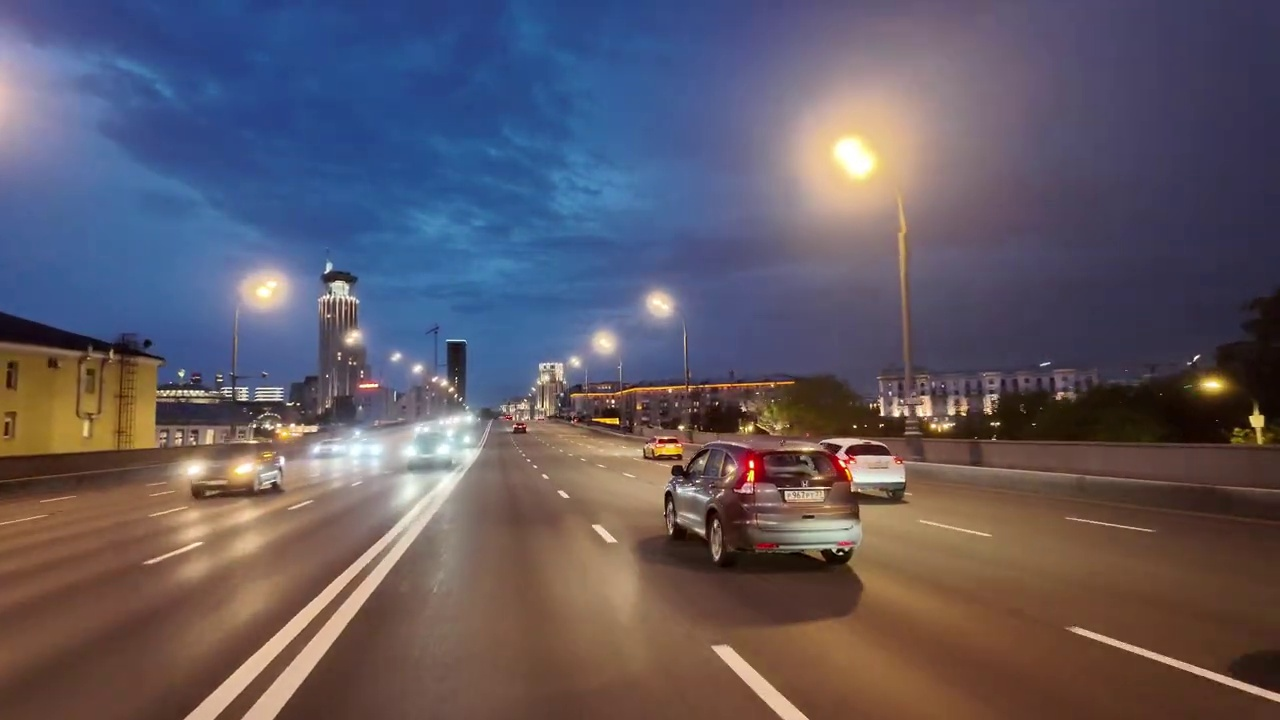acesa: (824, 131, 882, 189), (245, 274, 284, 307), (644, 290, 675, 319), (1199, 373, 1231, 399), (592, 330, 618, 355), (340, 329, 363, 350)
